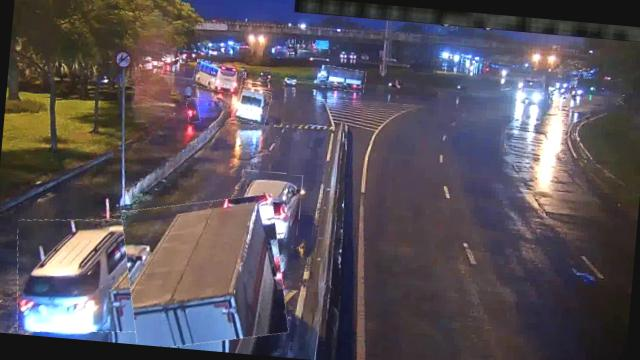Bike: (186, 98, 201, 124)
Bus: (193, 60, 244, 93), (233, 86, 270, 126)
Car: (11, 212, 149, 339), (237, 170, 303, 236)
Truck: (116, 189, 293, 356), (319, 66, 366, 93)
